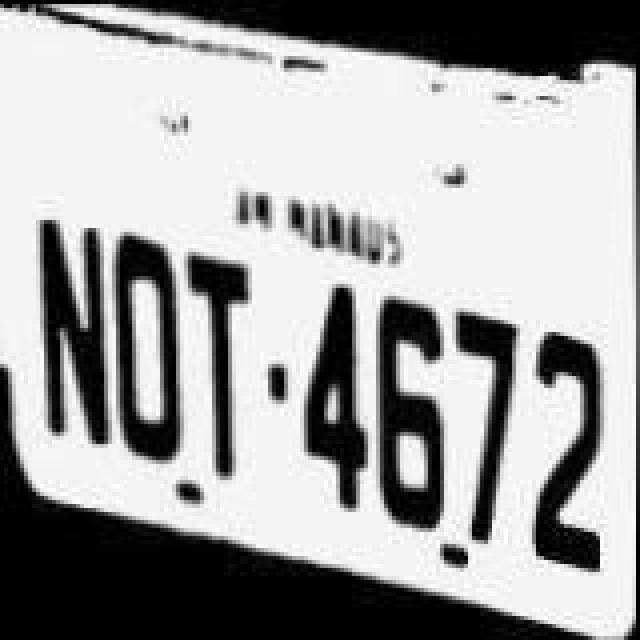2: (528, 320, 624, 584)
4: (296, 272, 376, 516)
6: (374, 282, 450, 534)
7: (448, 294, 528, 546)
N: (28, 202, 112, 454)
O: (108, 214, 184, 470)
T: (182, 244, 262, 484)
